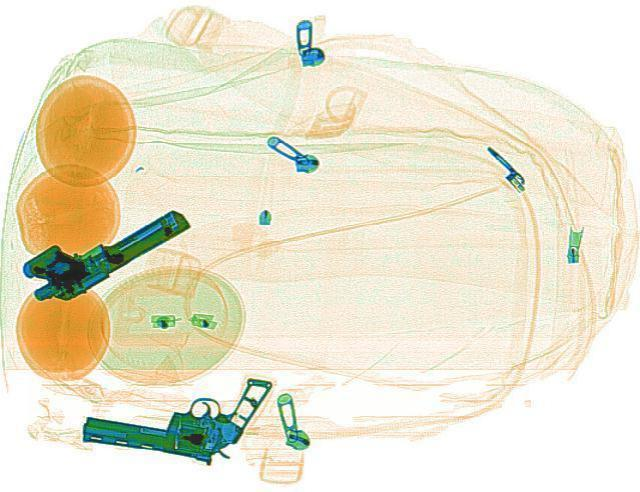Gun: (4, 186, 198, 308), (76, 353, 274, 466)
